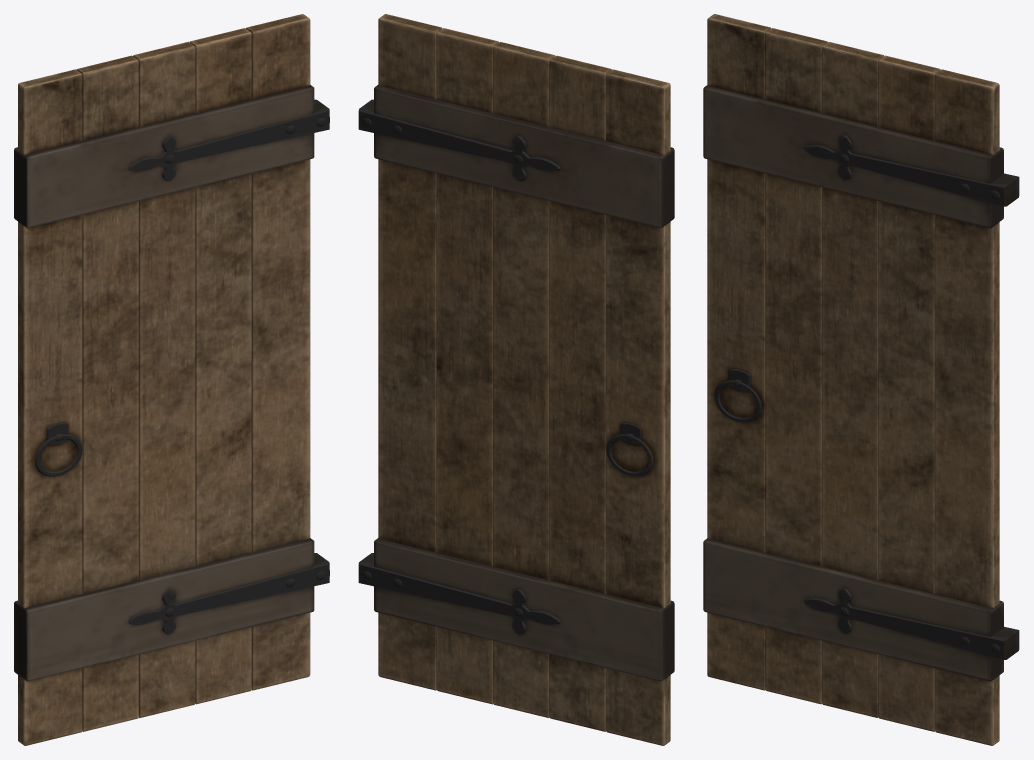
The model's file is BW_StableA01_HorseDoorL.fbx.
3 renders of one model, left to right at view 1: azimuth 30°, elevation 25°; view 2: azimuth 150°, elevation 25°; view 3: azimuth 330°, elevation 25°, orthographic.
Parts seen in each view (by area): view 1: BW_StableA01_HorseDoorL; view 2: BW_StableA01_HorseDoorL; view 3: BW_StableA01_HorseDoorL.
Boxes of the visible parts, x1=… form: BW_StableA01_HorseDoorL: x1=14, y1=14, x2=329, y2=745; BW_StableA01_HorseDoorL: x1=358, y1=14, x2=674, y2=745; BW_StableA01_HorseDoorL: x1=703, y1=14, x2=1019, y2=745.
Bounding box in the file's own units: 1.36 × 2.82 × 0.1318.
